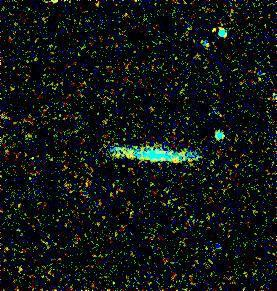star: (201, 16, 231, 46)
